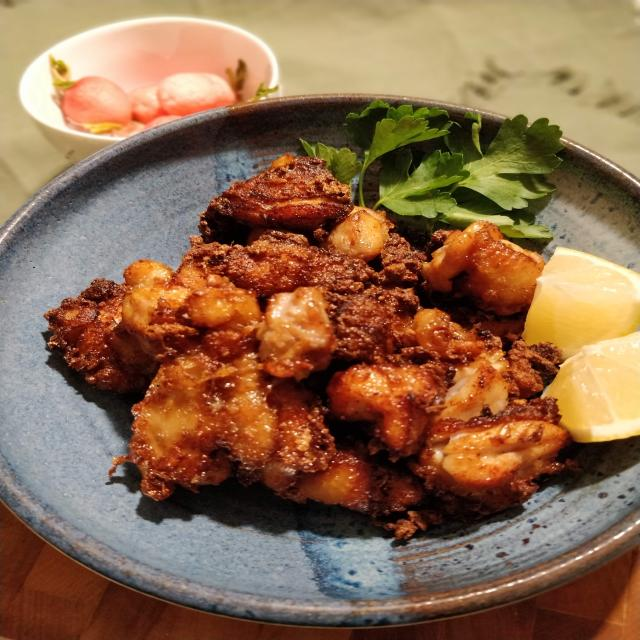Frango: (43, 152, 570, 540)
